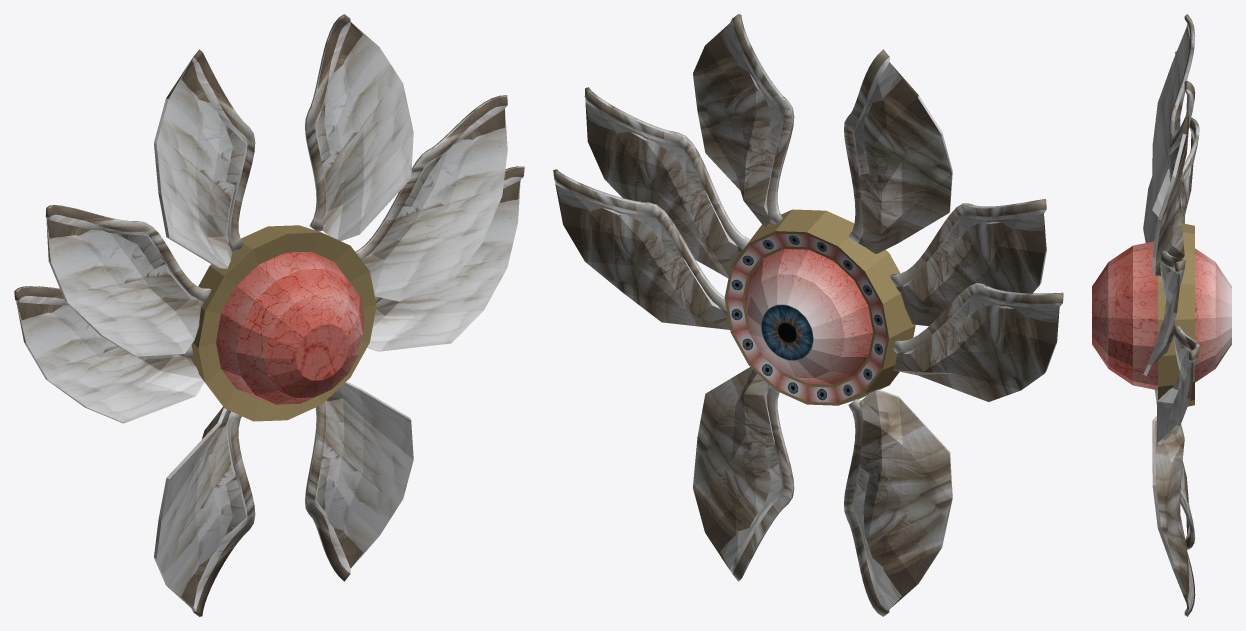
The model's file is LPAngel.glb.
The picture shows the model from 3 angles, left to right: view 1: azimuth 30°, elevation 25°; view 2: azimuth 150°, elevation 25°; view 3: azimuth 270°, elevation 25°; orthographic projection. The views are drawn at different scales.
Visible parts, largest first — view 1: Eye, LWing4, LWing3, RWing3, RWing4, LWing1, RWing2, RWing1, LWing2; view 2: Eye, RWing1, RWing4, LWing1, LWing2, RWing2, LWing4, LWing3, RWing3; view 3: Eye, LWing1, RWing4, LWing4, LWing2, LWing3, RWing2, RWing1, RWing3.
Boxes of the visible parts, x1,y1,x2,y2 form: Eye: (191, 225, 376, 421); LWing4: (305, 14, 413, 240); LWing3: (355, 95, 507, 301); RWing3: (45, 205, 211, 356); RWing4: (154, 49, 255, 268); LWing1: (305, 381, 413, 581); RWing2: (14, 286, 204, 423); RWing1: (154, 407, 255, 616); LWing2: (367, 166, 524, 351); Eye: (724, 209, 915, 405); RWing1: (844, 389, 952, 616); RWing4: (844, 49, 952, 253); LWing1: (693, 367, 794, 581); LWing2: (553, 169, 729, 329); RWing2: (893, 283, 1063, 401); LWing4: (693, 14, 794, 226); LWing3: (584, 87, 750, 278); RWing3: (890, 199, 1046, 326); Eye: (1092, 223, 1231, 406); LWing1: (1152, 416, 1195, 616); RWing4: (1152, 14, 1195, 216); LWing4: (1152, 81, 1195, 275); LWing2: (1157, 325, 1199, 444); LWing3: (1143, 251, 1185, 375); RWing2: (1181, 118, 1199, 223); RWing1: (1155, 390, 1195, 549); RWing3: (1143, 51, 1176, 242).
Size of the model in its own units: 7.35 by 7.81 by 1.85.
Materials: 8 (4 with a texture image).
